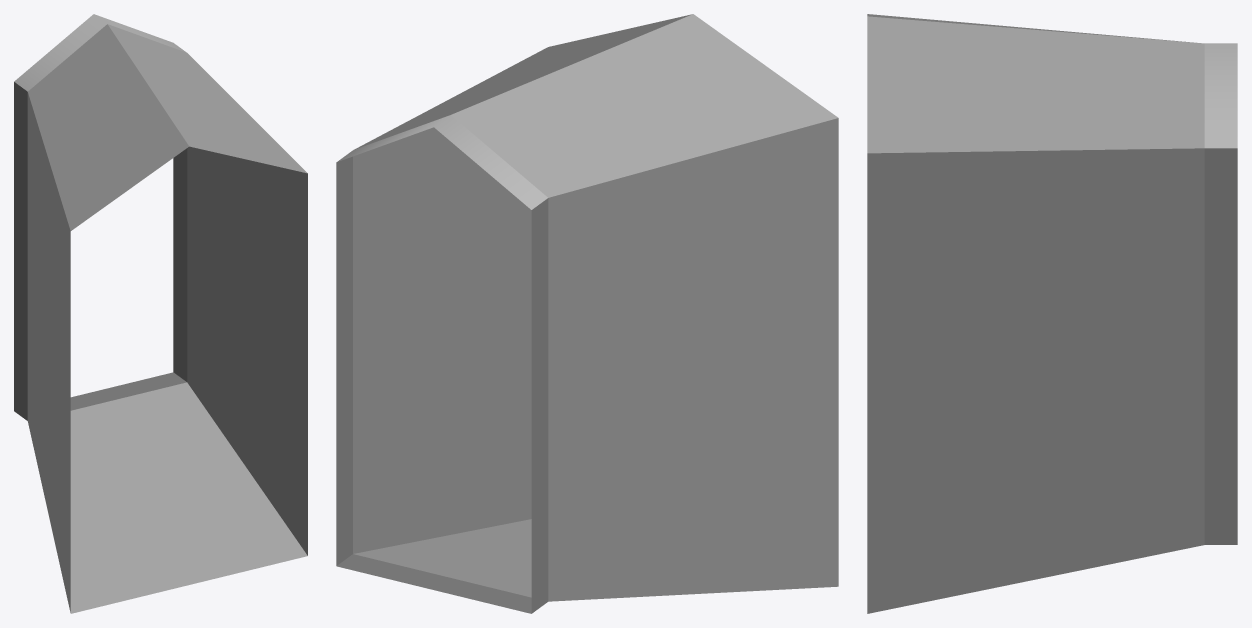
Rendered from AI_FX_Chruch_ColourRay.fbx.
The picture shows the model from 3 angles, left to right: view 1: azimuth 30°, elevation 25°; view 2: azimuth 150°, elevation 25°; view 3: azimuth 270°, elevation 25°; orthographic projection. The views are drawn at different scales.
Parts seen in each view (by area): view 1: AI_FX_Chruch_ColourRay; view 2: AI_FX_Chruch_ColourRay; view 3: AI_FX_Chruch_ColourRay.
Part boxes in pixels (x1,y1,x2,y2): AI_FX_Chruch_ColourRay: (14,14,307,613); AI_FX_Chruch_ColourRay: (336,14,838,613); AI_FX_Chruch_ColourRay: (867,14,1237,613).
Size of the model in its own units: 4.85 by 8.03 by 5.04.
